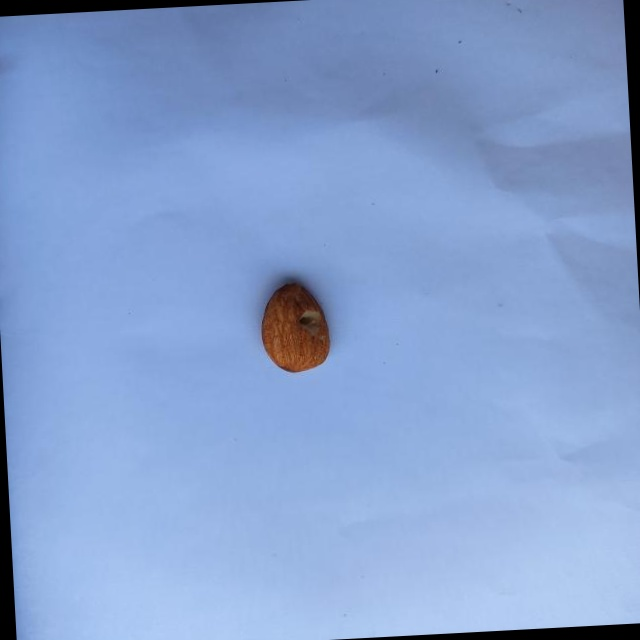grade3: (257, 276, 337, 378)
